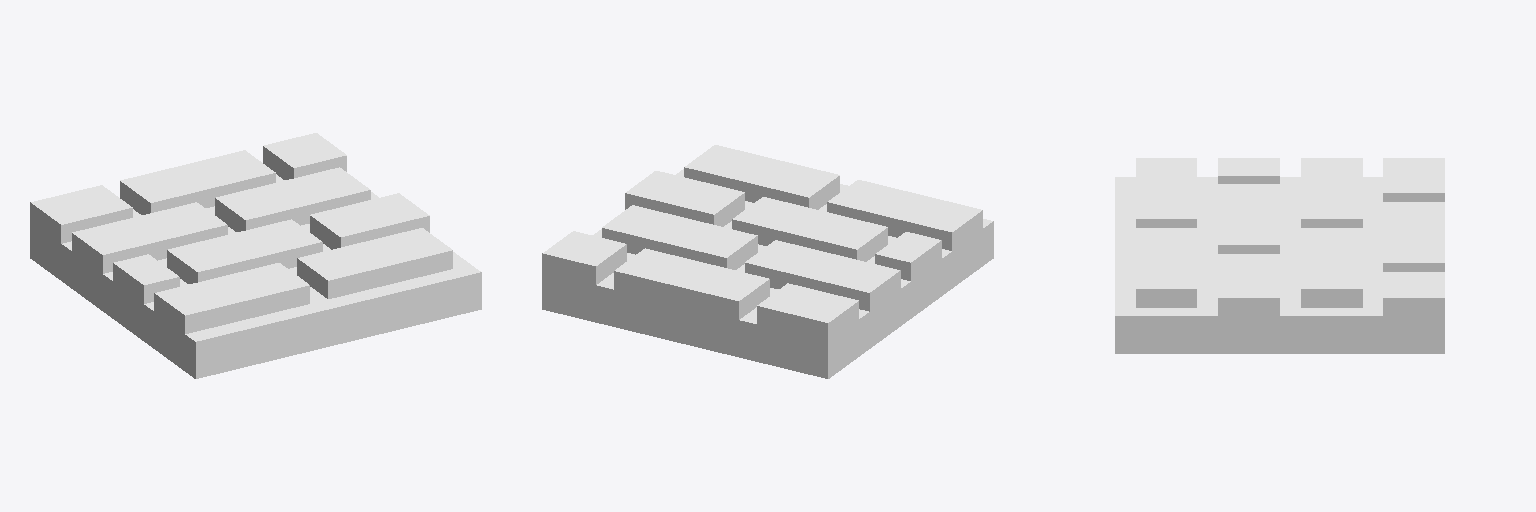
Rendered from tile_raised.obj.
3 views of the same model, side by side, from view 1: azimuth 30°, elevation 25°; view 2: azimuth 150°, elevation 25°; view 3: azimuth 270°, elevation 25° (orthographic).
Visible parts, largest first — view 1: tile_raised; view 2: tile_raised; view 3: tile_raised.
Part boxes in pixels (x1,y1,x2,y2): tile_raised: (30,133,481,378); tile_raised: (542,145,993,378); tile_raised: (1115,158,1444,353).
Bounding box in the file's own units: 6.23 × 1.17 × 6.23.